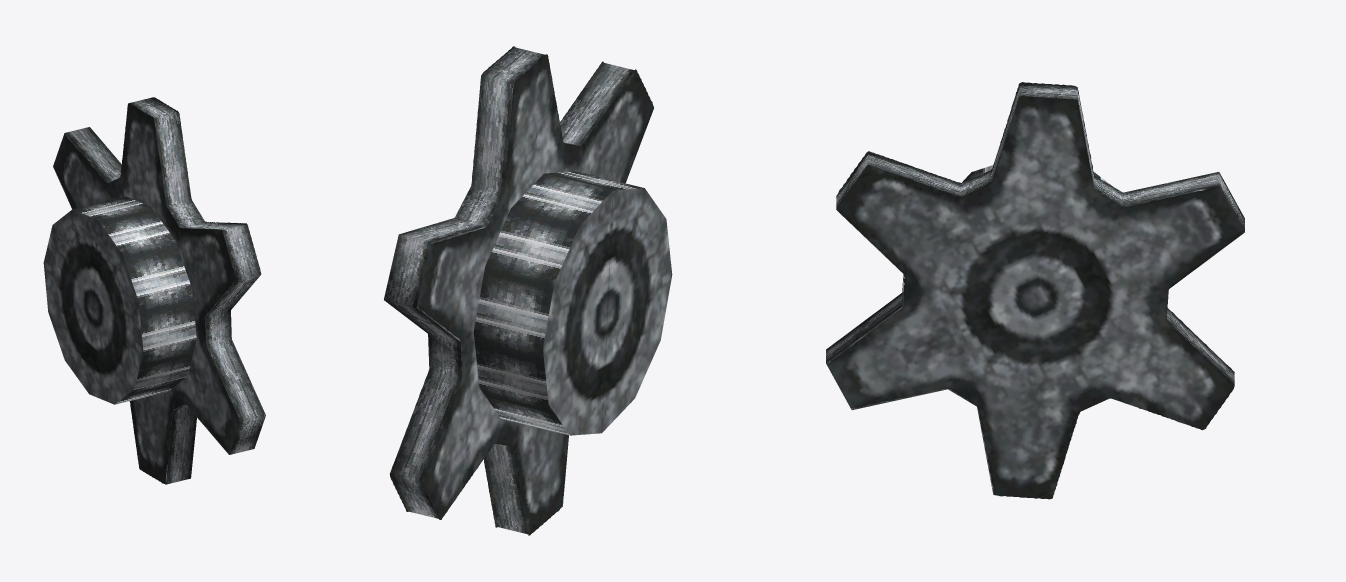
File: INST_PUZZLE_PIECE1_PIECE1_SILVER.fbx
3 views of the same model, side by side, from view 1: azimuth 30°, elevation 25°; view 2: azimuth 150°, elevation 25°; view 3: azimuth 270°, elevation 25° (orthographic). The views are drawn at different scales.
Visible parts, largest first — view 1: INST_PUZZLE_PIECE1_PIECE1_SILVER; view 2: INST_PUZZLE_PIECE1_PIECE1_SILVER; view 3: INST_PUZZLE_PIECE1_PIECE1_SILVER.
Boxes of the visible parts, bbox=[...] form: INST_PUZZLE_PIECE1_PIECE1_SILVER: bbox=[43, 97, 265, 484]; INST_PUZZLE_PIECE1_PIECE1_SILVER: bbox=[384, 46, 672, 535]; INST_PUZZLE_PIECE1_PIECE1_SILVER: bbox=[826, 82, 1244, 499].
Size of the model in its own units: 783 by 4613 by 4588.
Materials: 3 (3 with a texture image).
